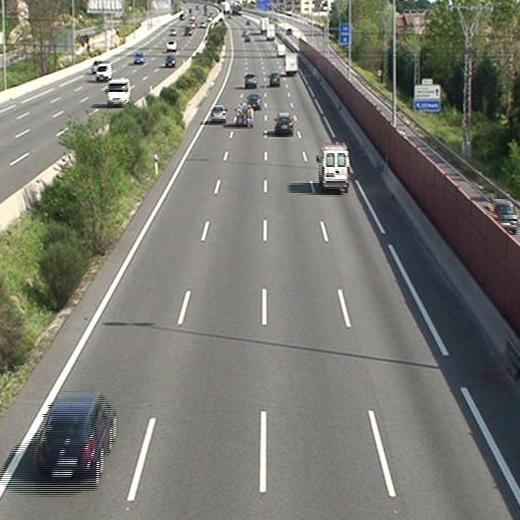car: (37, 395, 116, 479), (275, 113, 294, 135), (237, 106, 254, 125), (210, 104, 227, 121), (247, 93, 263, 107), (244, 72, 258, 87), (267, 72, 280, 85)
small-truck: (283, 50, 297, 74)
van: (317, 145, 347, 190), (275, 42, 285, 56)
